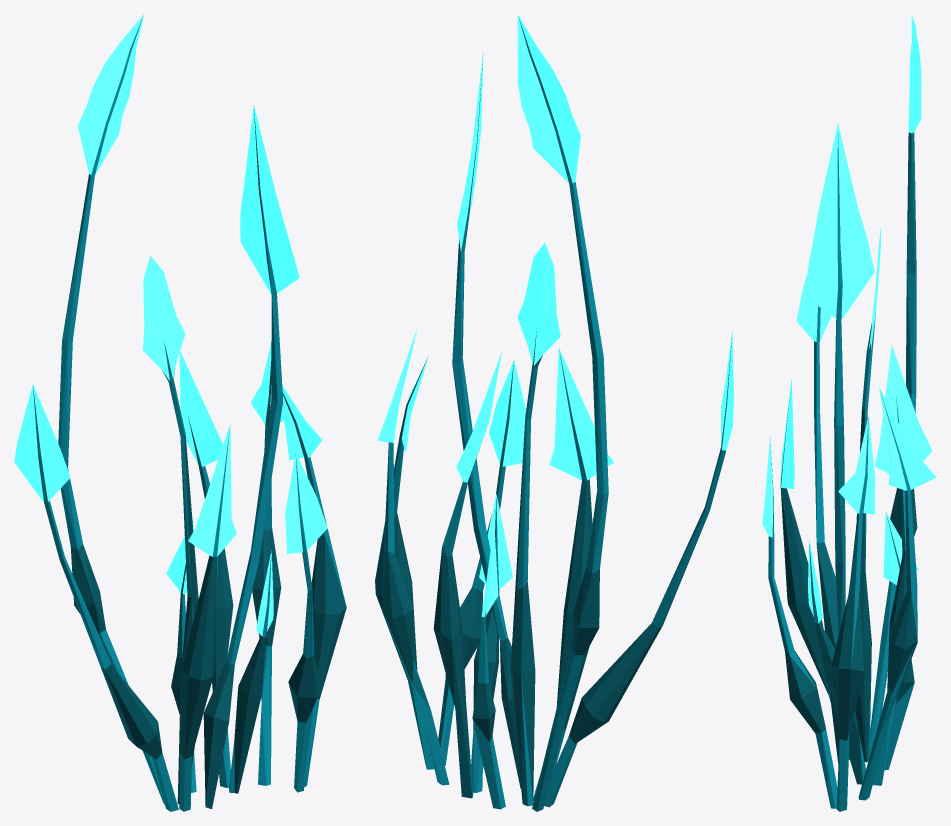
File: SM_Flora_02.glb
3 renders of one model, left to right at view 1: azimuth 30°, elevation 25°; view 2: azimuth 150°, elevation 25°; view 3: azimuth 270°, elevation 25°, orthographic. The views are drawn at different scales.
Visible parts, largest first — view 1: SM_Flora_02; view 2: SM_Flora_02; view 3: SM_Flora_02.
Part boxes in pixels (x1,y1,x2,y2): SM_Flora_02: (14, 14, 346, 811); SM_Flora_02: (375, 14, 733, 811); SM_Flora_02: (762, 15, 936, 811).
Bounding box in the file's own units: 1.11 × 2.45 × 0.5225.
2 materials, 1 textured.
